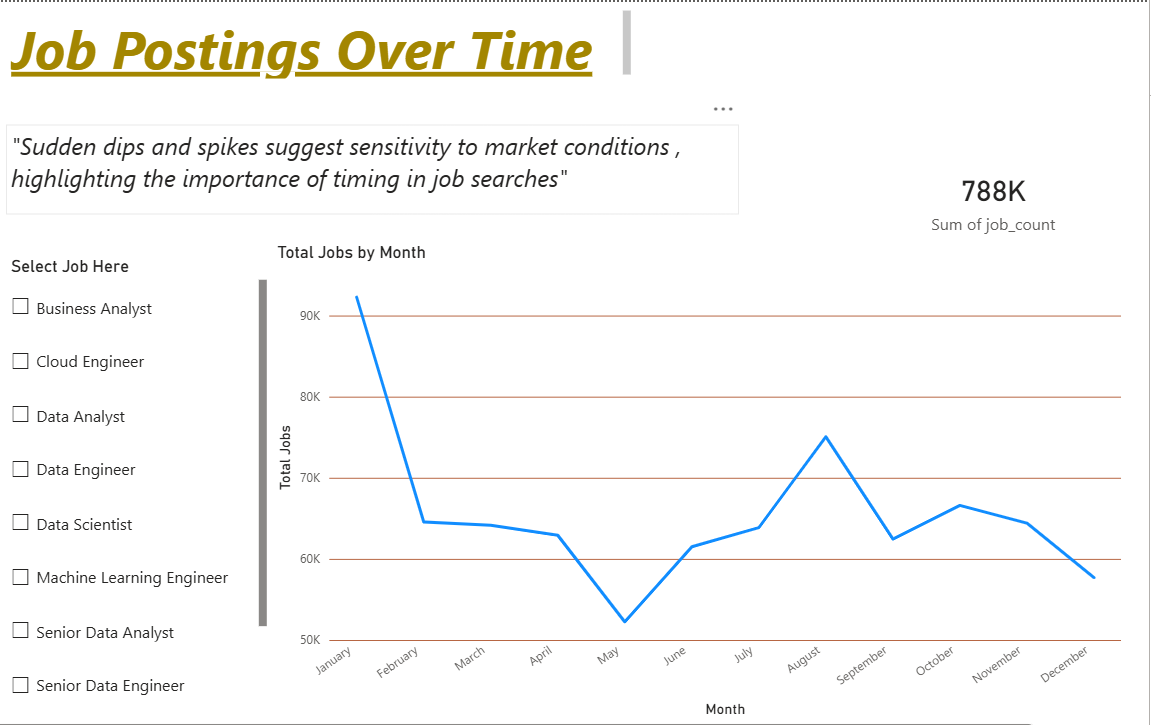

The dashboard page shown, as its layout file describes it:
{"tool":"powerbi","page":{"name":"average salary job roles","canvas":[1280,720],"ordinal":4},"visuals":[{"type":"lineChart","fields":{"Category":["public bi_job_postings_over_time.job_posted_month.Variation.Date Hierarchy.Month"],"Y":["Sum(public bi_job_postings_over_time.job_count)"]},"box":[276.2,240,853.8,480],"z":0},{"type":"listSlicer","fields":{"Values":["public bi_job_postings_over_time.job_title_short"]},"box":[10,253.8,266.2,466.2],"z":1000},{"type":"card","fields":{"Values":["Sum(public bi_job_postings_over_time.job_count)"]},"box":[847.5,97.5,300,200],"z":2000},{"type":"textbox","box":[10,122.5,733.8,90],"z":3000},{"type":"textbox","box":[10,3.8,630,77.5],"z":4000}]}

Visuals, with their boxes on the page's 1280x720 design canvas (x1, y1, x2, y2). These are canvas units, not pixel positions in the 1151x725 screenshot, which may show the page scaled, cropped or inside an application window:
lineChart - public bi_job_postings_over_time.job_posted_month.Variation.Date Hierarchy.Month x Sum(public bi_job_postings_over_time.job_count): select_region(276, 240, 1130, 720)
listSlicer - public bi_job_postings_over_time.job_title_short: select_region(10, 254, 276, 720)
card - Sum(public bi_job_postings_over_time.job_count): select_region(848, 98, 1148, 298)
textbox: select_region(10, 122, 744, 212)
textbox: select_region(10, 4, 640, 81)
